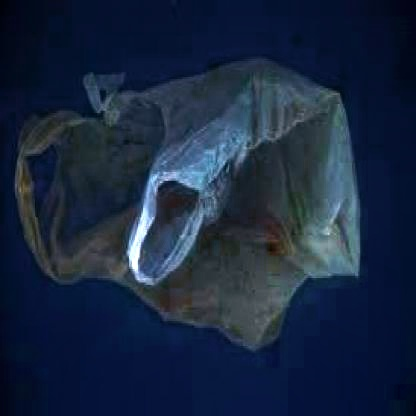pbag: (15, 54, 363, 357)
